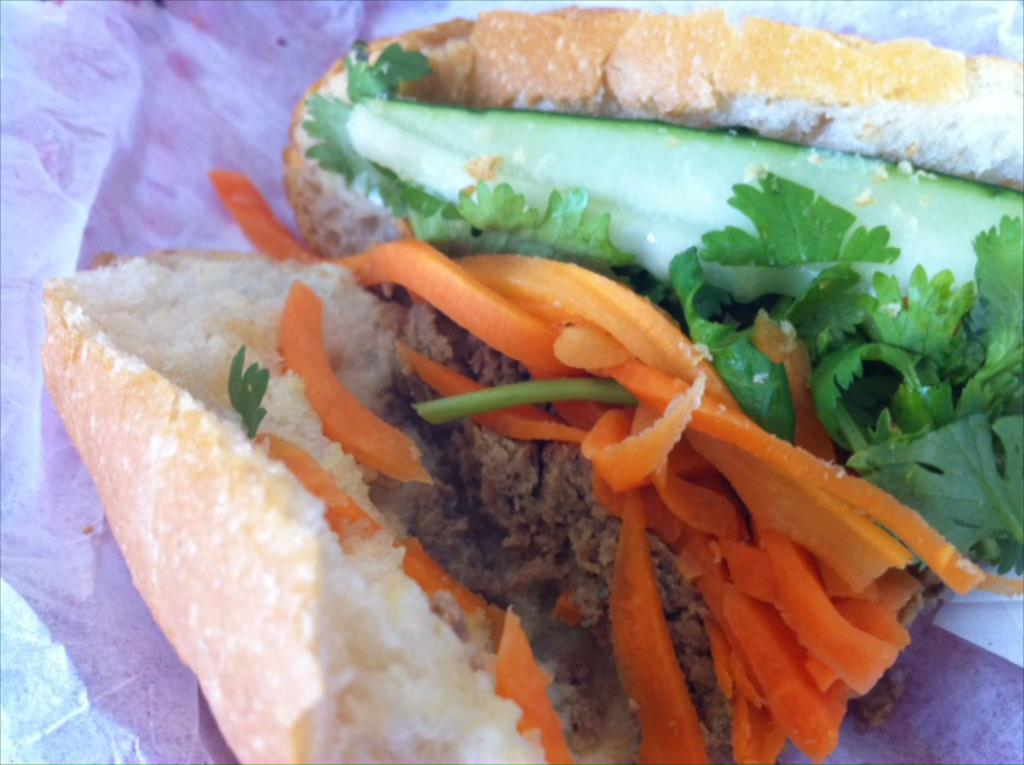Carrot: (192, 208, 987, 723)
